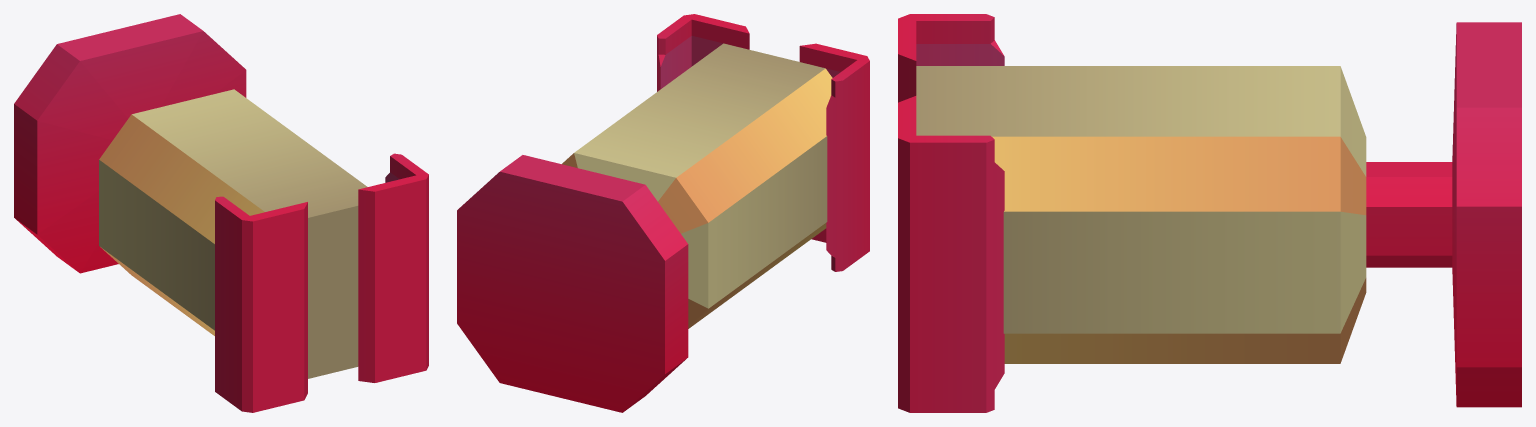
Rendered from i-touch.fbx.
3 views of the same model, side by side, from view 1: azimuth 30°, elevation 25°; view 2: azimuth 150°, elevation 25°; view 3: azimuth 270°, elevation 25° (orthographic). The views are drawn at different scales.
Parts seen in each view (by area): view 1: Cube; view 2: Cube; view 3: Cube.
Boxes of the visible parts, bbox=[...] form: Cube: bbox=[14, 14, 428, 412]; Cube: bbox=[457, 14, 869, 412]; Cube: bbox=[898, 14, 1521, 412].
Bounding box in the file's own units: 16.11 × 15.64 × 29.49.
